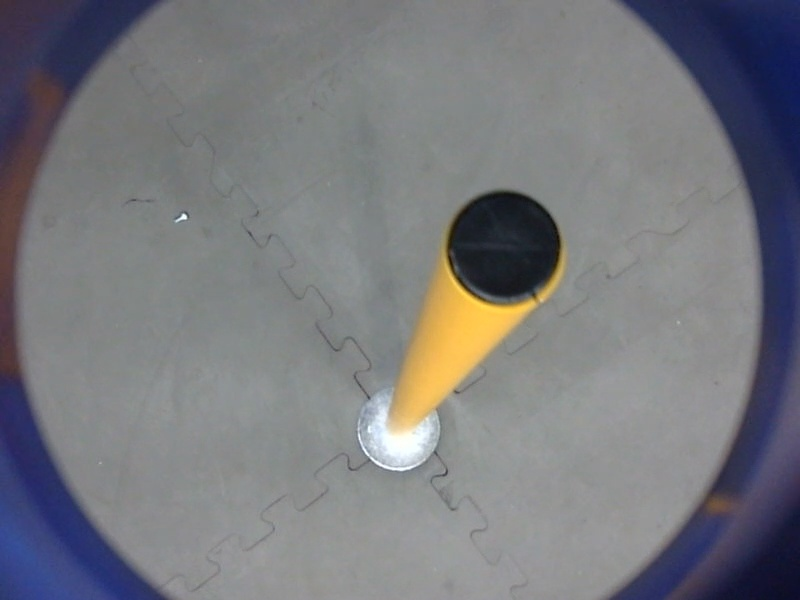tip: (438, 183, 572, 314)
